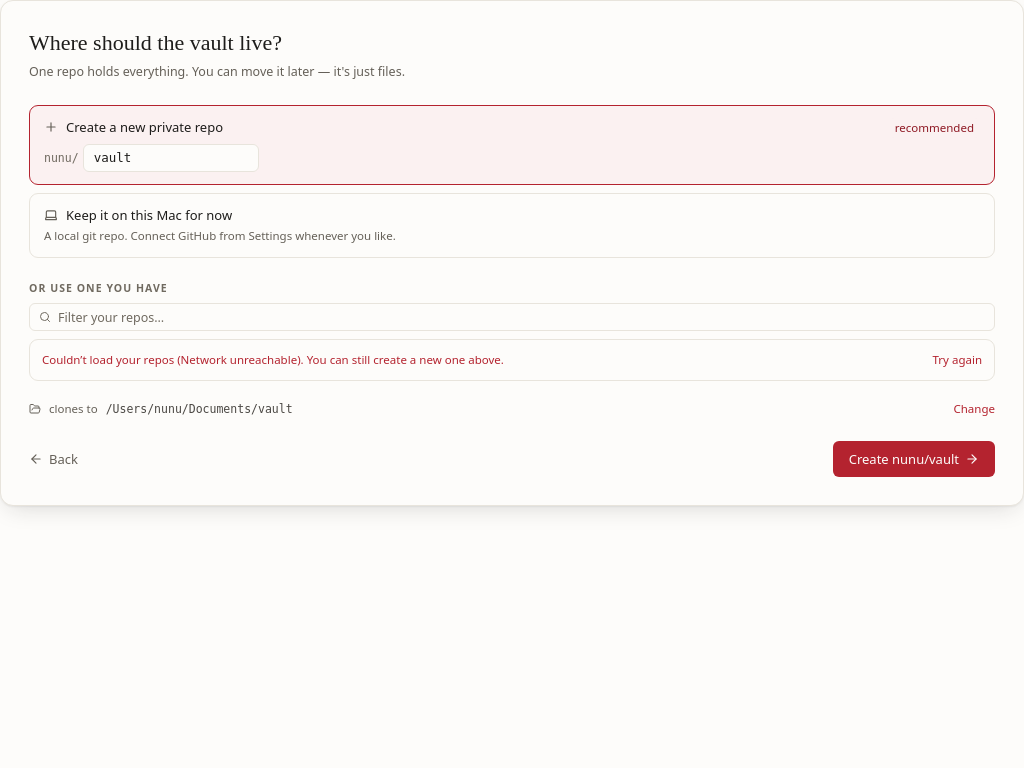
it: RepoPicker — when the repo list fails › keeps create-new usable, and a failed Continue does not wipe the list error
The image size is (1024, 768).
Expected: the text "Couldn’t load your repos" is shown, [42,352,181,367]
Click the button "Create nunu/vault". click: (914, 459)
box: [833,441,995,477]
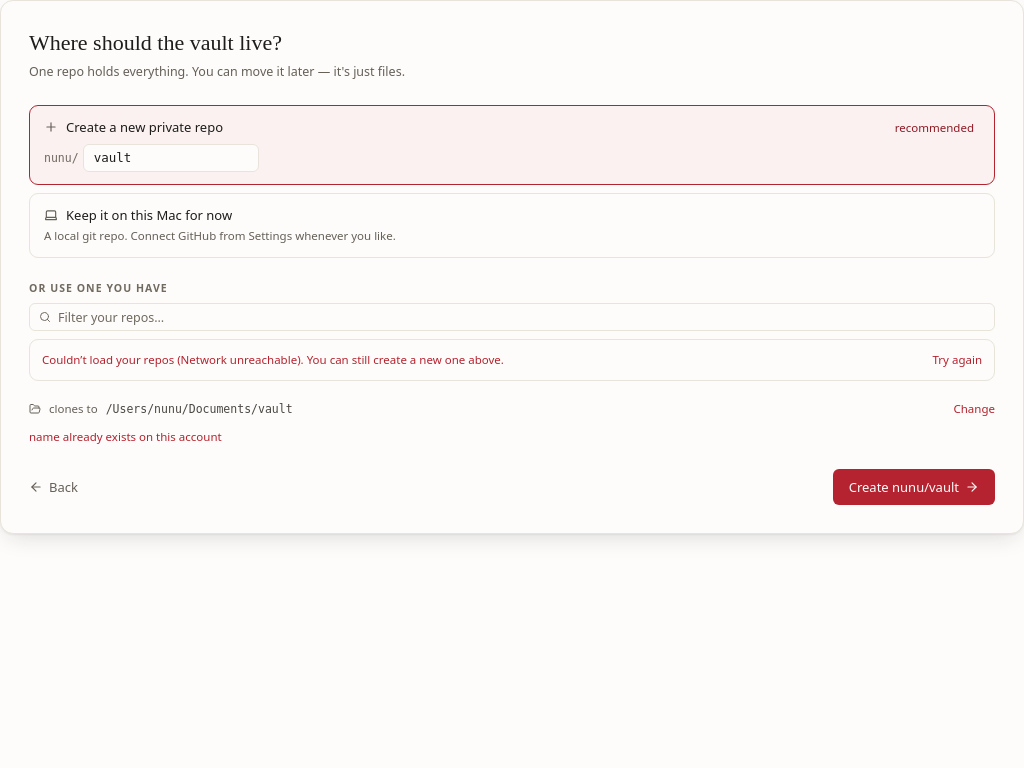
Expected: the text "Couldn’t load your repos" is shown, [42,352,181,367]
Result: the text "name already exists on this account" is shown at [29,429,222,444]
